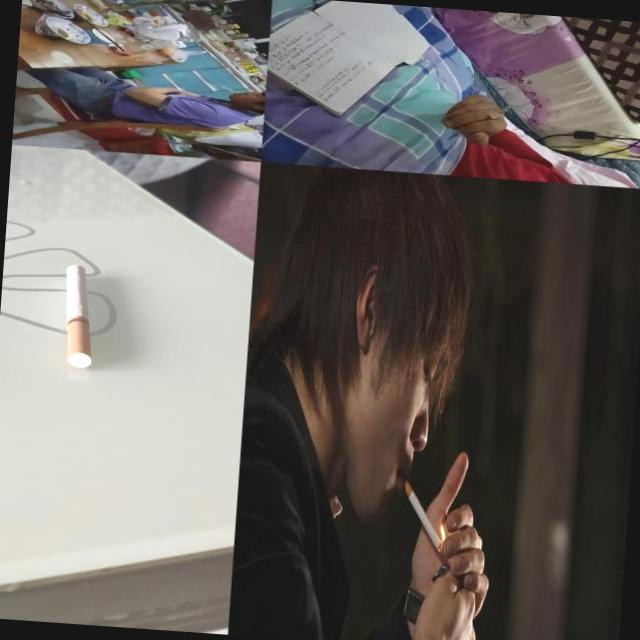cigarette: (59, 264, 100, 368), (398, 479, 447, 553), (482, 103, 511, 125), (221, 86, 239, 93)
